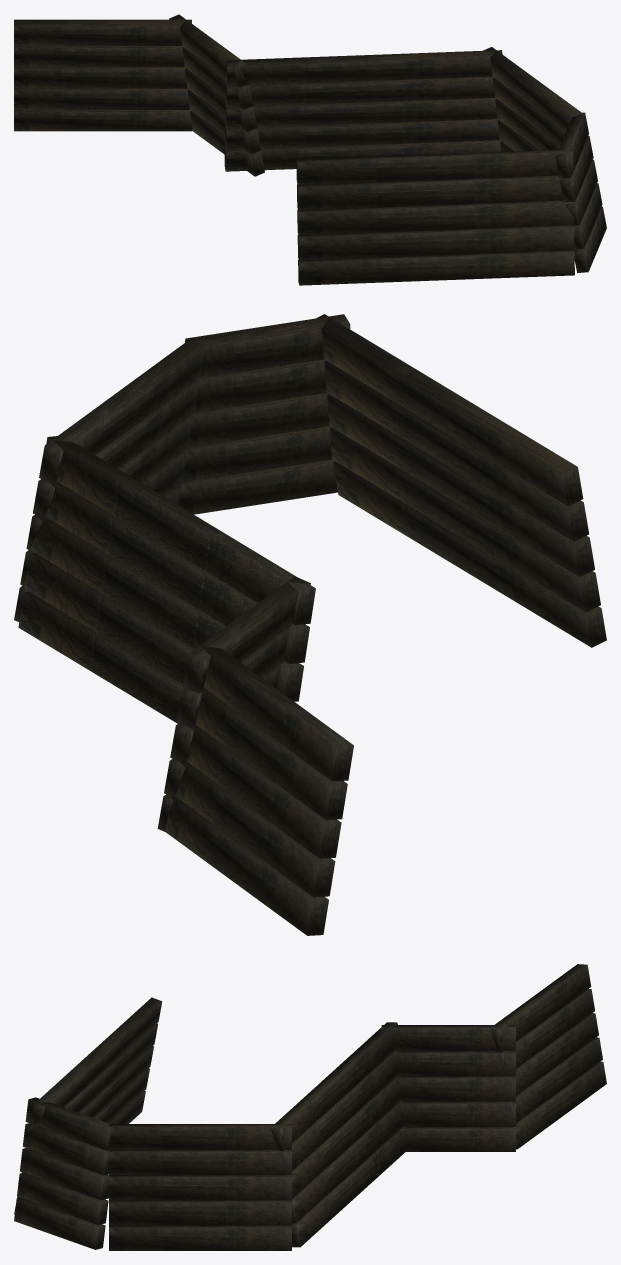
Rendered from WoodenBarrierPartTest10.obj.
The picture shows the model from 3 angles, top to bottom: view 1: azimuth 30°, elevation 25°; view 2: azimuth 150°, elevation 25°; view 3: azimuth 270°, elevation 25°; orthographic projection. The views are drawn at different scales.
Visible parts, largest first — view 1: Box006; view 2: Box006; view 3: Box006.
Boxes of the visible parts, x1=… form: Box006: x1=14, y1=14, x2=606, y2=285; Box006: x1=14, y1=314, x2=606, y2=935; Box006: x1=14, y1=964, x2=606, y2=1250.
Bounding box in the file's own units: 205 × 63.84 × 295.
